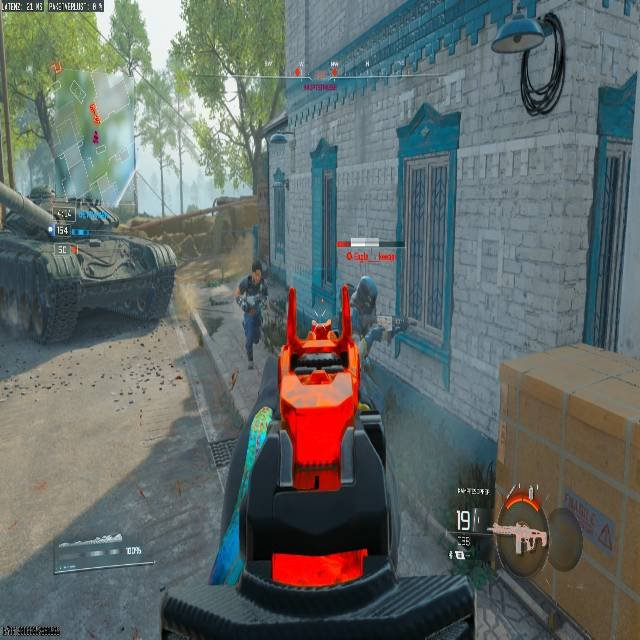head: (489, 499, 551, 574), (250, 263, 262, 282)
player: (342, 274, 381, 359), (236, 262, 267, 363)
